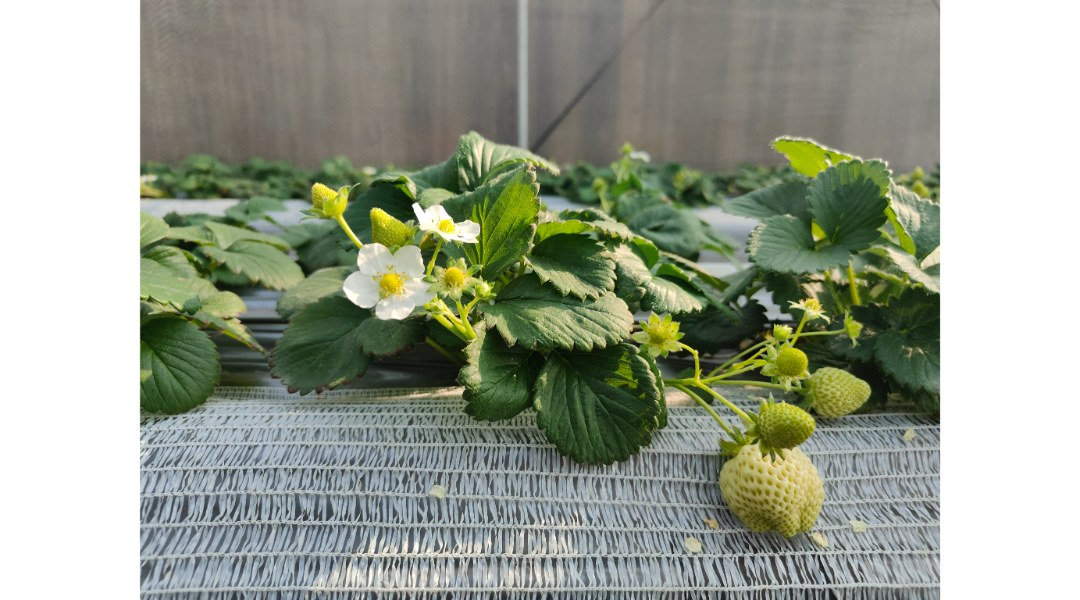berry: (714, 429, 833, 542), (801, 363, 884, 416), (750, 396, 817, 452), (287, 175, 360, 221), (629, 303, 688, 358), (763, 340, 819, 388), (367, 201, 413, 255), (433, 256, 476, 296), (473, 270, 501, 303)
flower: (342, 232, 432, 341), (410, 193, 486, 236), (785, 295, 834, 321)
strain: (697, 386, 753, 425), (680, 394, 729, 430), (334, 213, 362, 246), (426, 244, 442, 277), (690, 350, 707, 376)
